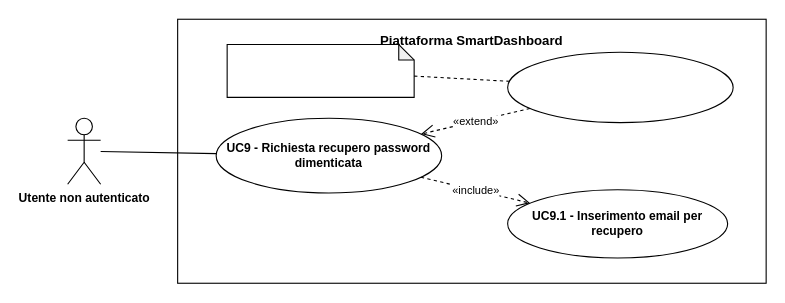
This 785x303 diagram has some shape labels left out. The box of each missing label's shape, as (x1, y1, x2, y2) in pixels:
Condizione: Email non registrata nel sistema: (226, 43, 414, 97)
UC10 - Email non associata ad alcun account: (507, 51, 733, 123)
